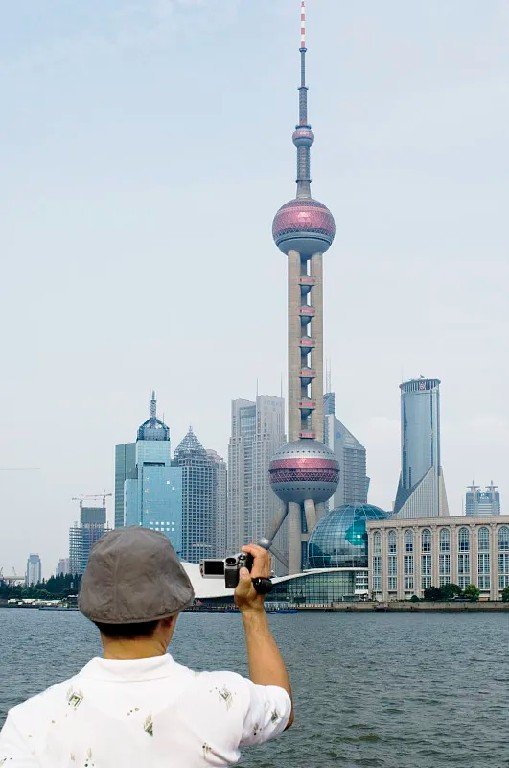Oriental: (260, 2, 340, 570)
